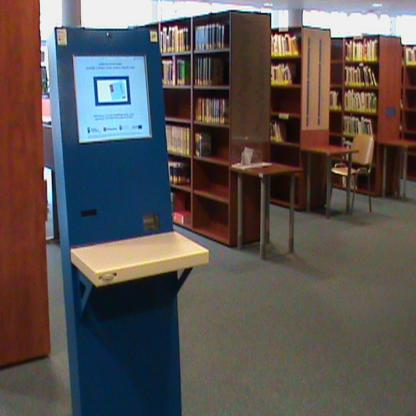book: (189, 20, 227, 55), (192, 57, 229, 91), (159, 53, 192, 87), (194, 94, 231, 123), (342, 36, 381, 63), (269, 58, 303, 88), (157, 22, 189, 51), (341, 61, 379, 85), (269, 31, 305, 56), (340, 87, 377, 110), (162, 124, 190, 153), (267, 120, 297, 141), (173, 164, 187, 186)
